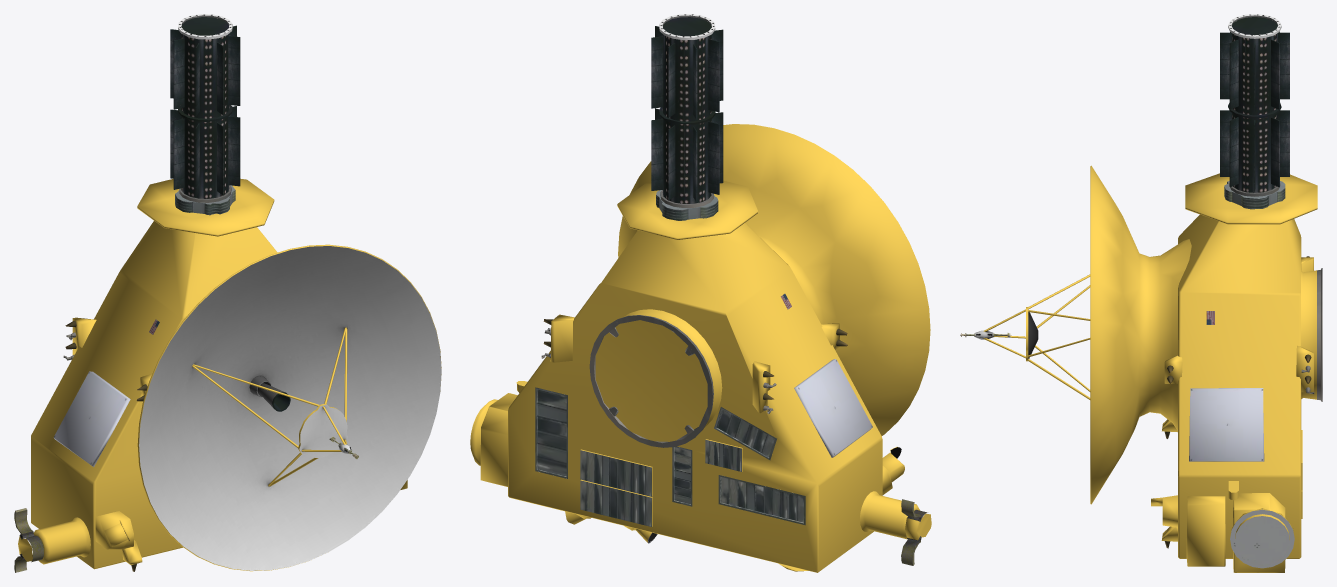
File: new-horizons.glb
3 views of the same model, side by side, from view 1: azimuth 30°, elevation 25°; view 2: azimuth 150°, elevation 25°; view 3: azimuth 270°, elevation 25° (orthographic). The views are drawn at different scales.
Parts seen in each view (by area): view 1: AO_dish, foil_gold, tex_01; view 2: foil_gold, tex_01; view 3: foil_gold, tex_01, AO_1, AO_dish.
Part boxes in pixels (x1,y1,x2,y2): AO_dish: [139, 246, 441, 570]; foil_gold: [18, 178, 441, 571]; tex_01: [14, 17, 358, 572]; foil_gold: [470, 124, 931, 572]; tex_01: [535, 17, 927, 565]; foil_gold: [983, 165, 1317, 572]; tex_01: [960, 17, 1322, 568]; AO_1: [1228, 14, 1281, 38]; AO_dish: [975, 312, 1038, 358].
Size of the model in its own units: 2.48 by 2.98 by 2.03.
Materials: 5 (4 with a texture image).
